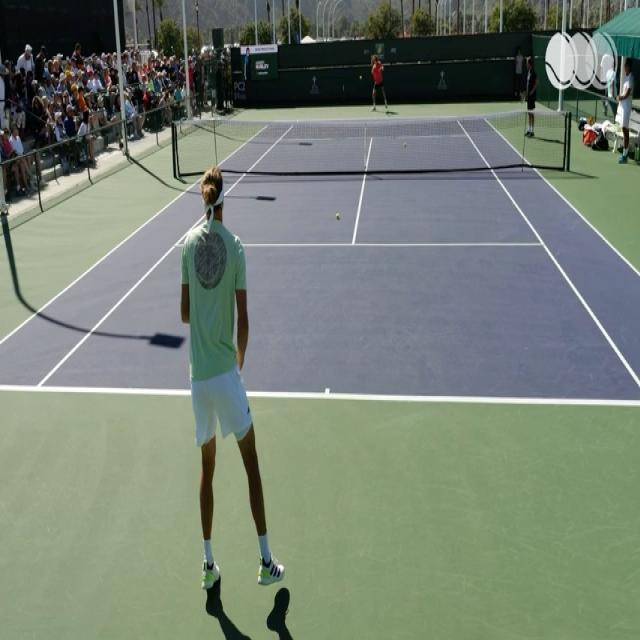ready-position: (182, 171, 284, 591)
